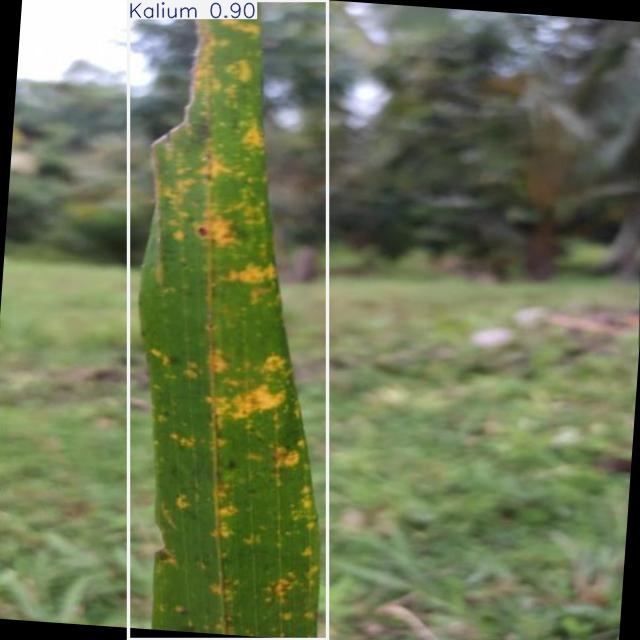Kalium: (129, 0, 328, 640)
